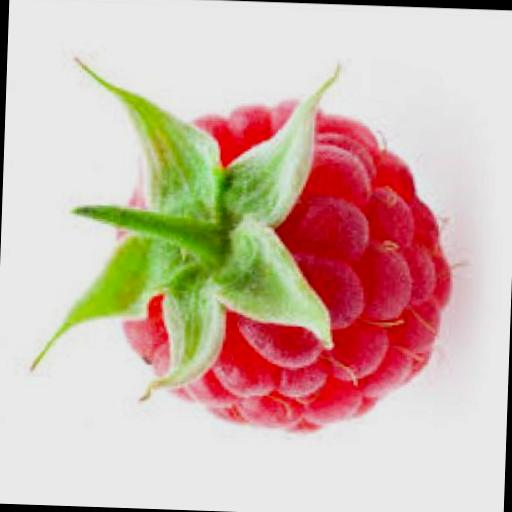biodegradable: (26, 49, 457, 432)
